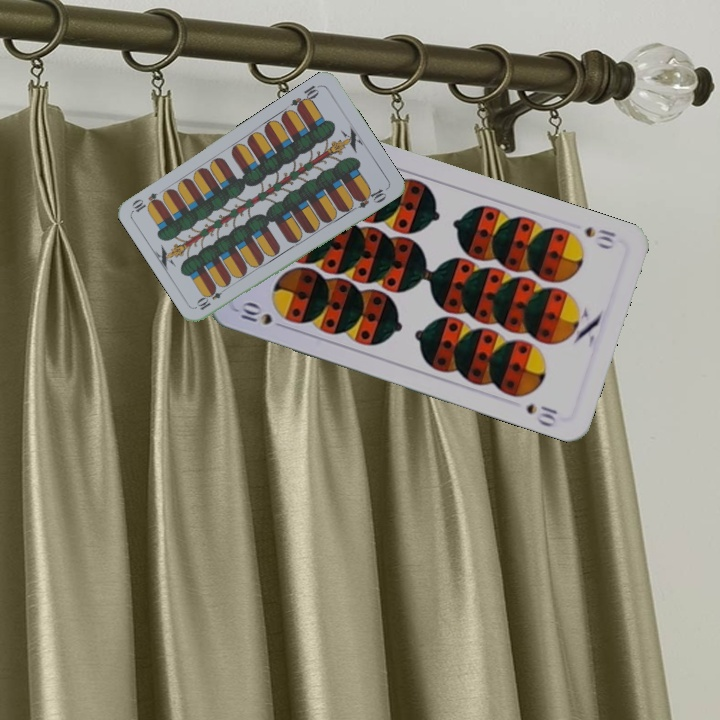E10: (287, 81, 323, 113), (193, 282, 230, 313)
S10: (233, 299, 275, 328), (579, 222, 619, 252)
